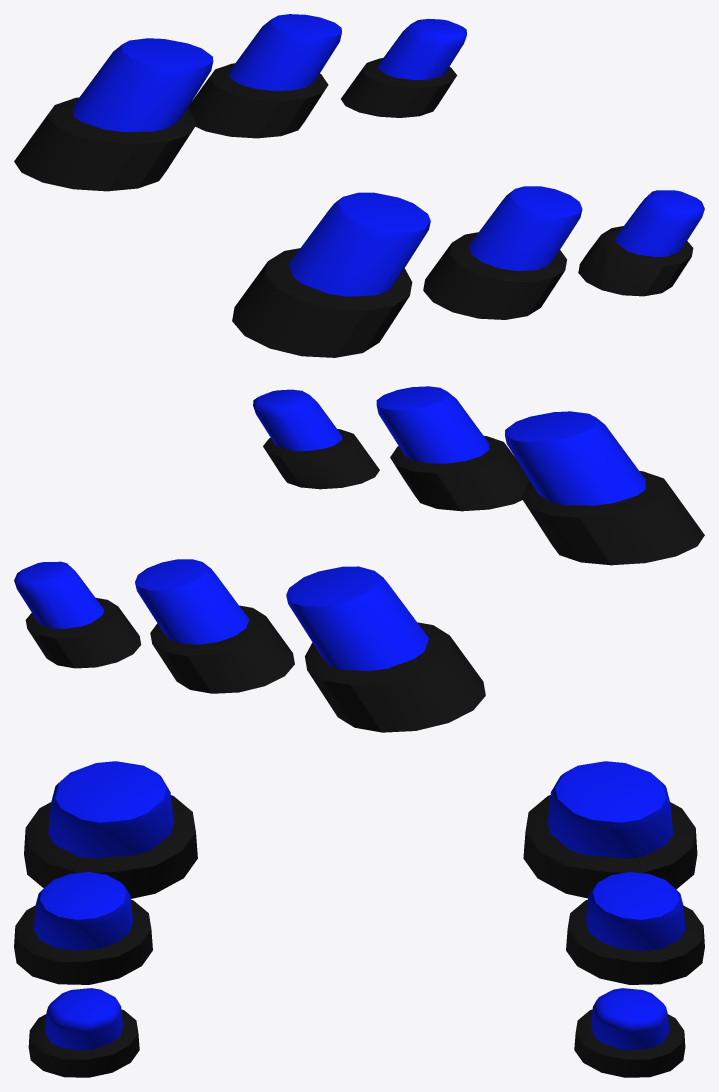
Rendered from boat_part3.FBX.
3 views of the same model, one above another, from view 1: azimuth 30°, elevation 25°; view 2: azimuth 150°, elevation 25°; view 3: azimuth 270°, elevation 25° (orthographic). The views are drawn at different scales.
Visible parts, largest first — view 1: transform_hovercraft_RIG:hover042; view 2: transform_hovercraft_RIG:hover042; view 3: transform_hovercraft_RIG:hover042.
Part boxes in pixels (x1,y1,x2,y2): transform_hovercraft_RIG:hover042: [14, 14, 704, 357]; transform_hovercraft_RIG:hover042: [14, 386, 704, 732]; transform_hovercraft_RIG:hover042: [14, 761, 704, 1077].
Size of the model in its own units: 14.05 by 3.72 by 16.3.
